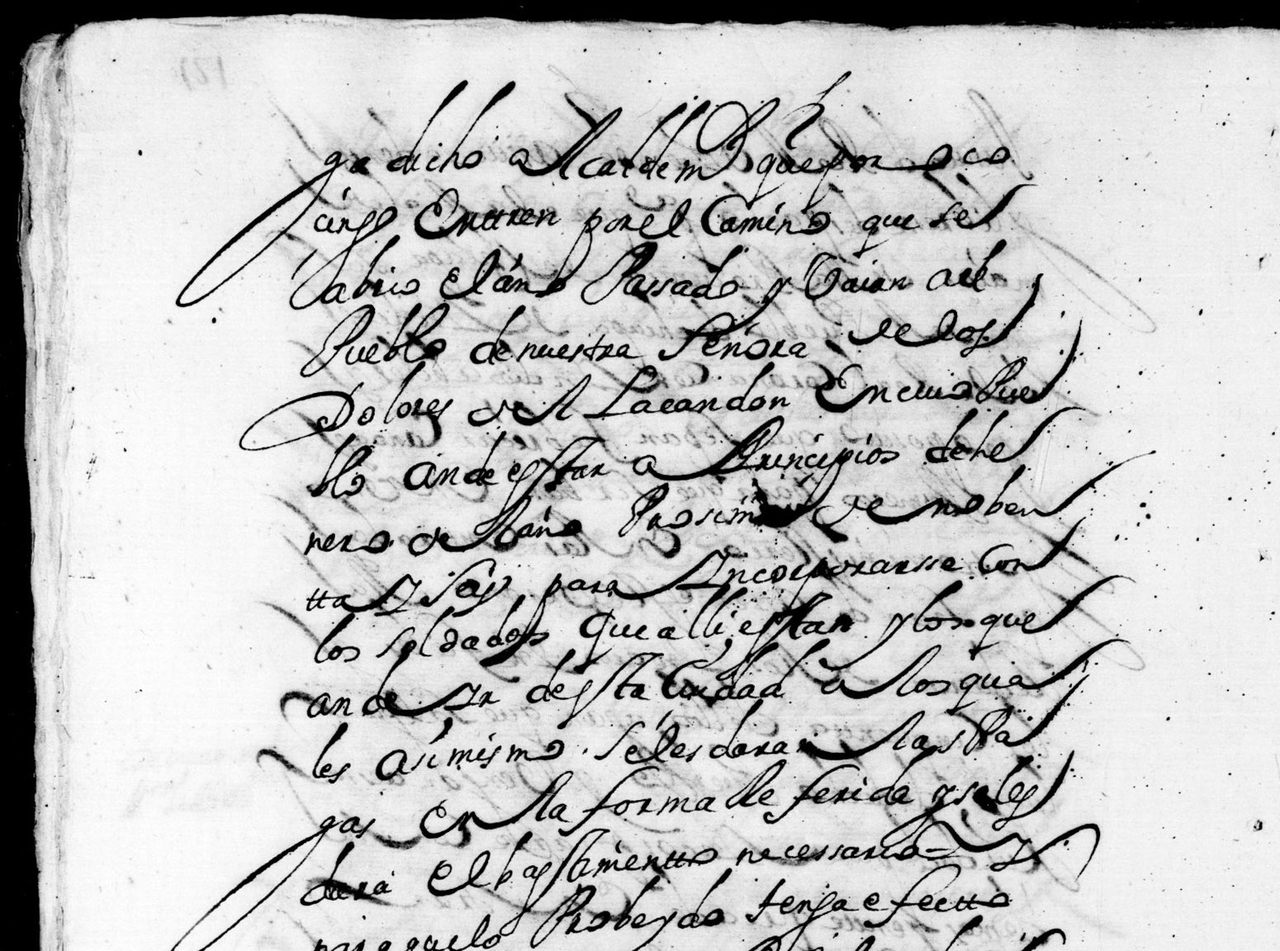lacandon: (582, 361, 790, 419)
